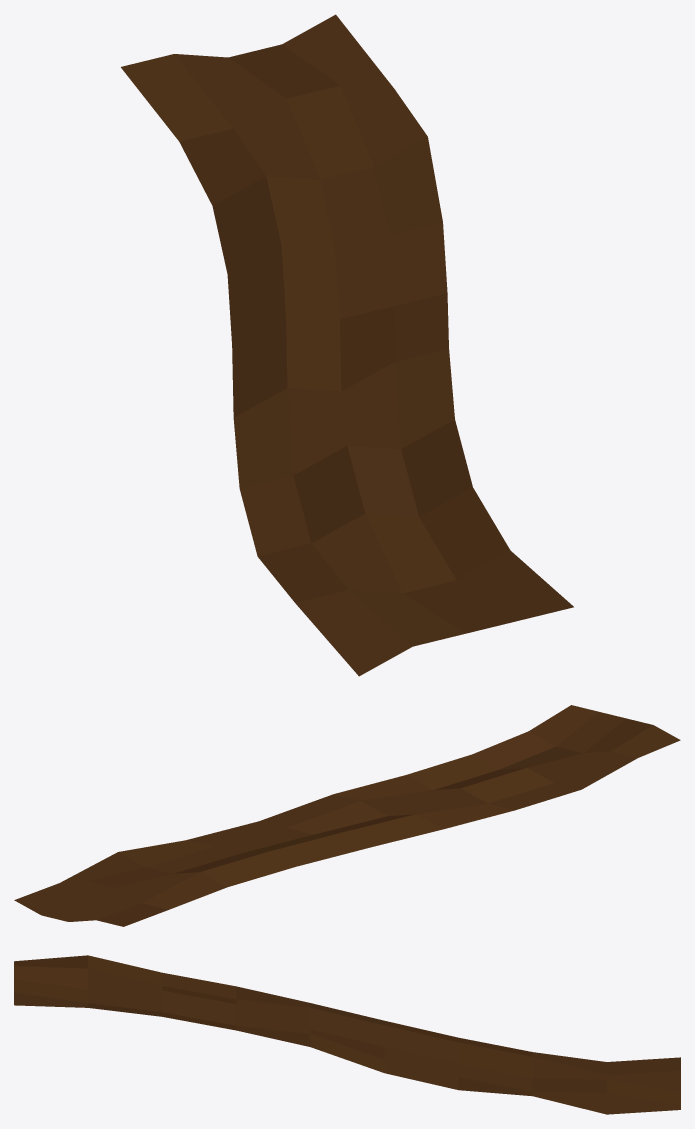
File: Path.fbx
3 renders of one model, top to bottom at view 1: azimuth 30°, elevation 25°; view 2: azimuth 150°, elevation 25°; view 3: azimuth 270°, elevation 25°, orthographic. The views are drawn at different scales.
Parts seen in each view (by area): view 1: Plane; view 2: Plane; view 3: Plane.
Boxes of the visible parts, x1,y1,x2,y2 form: Plane: (121, 14, 573, 676); Plane: (14, 705, 680, 926); Plane: (14, 955, 680, 1114).
Bounding box in the file's own units: 429 × 10.67 × 770.
